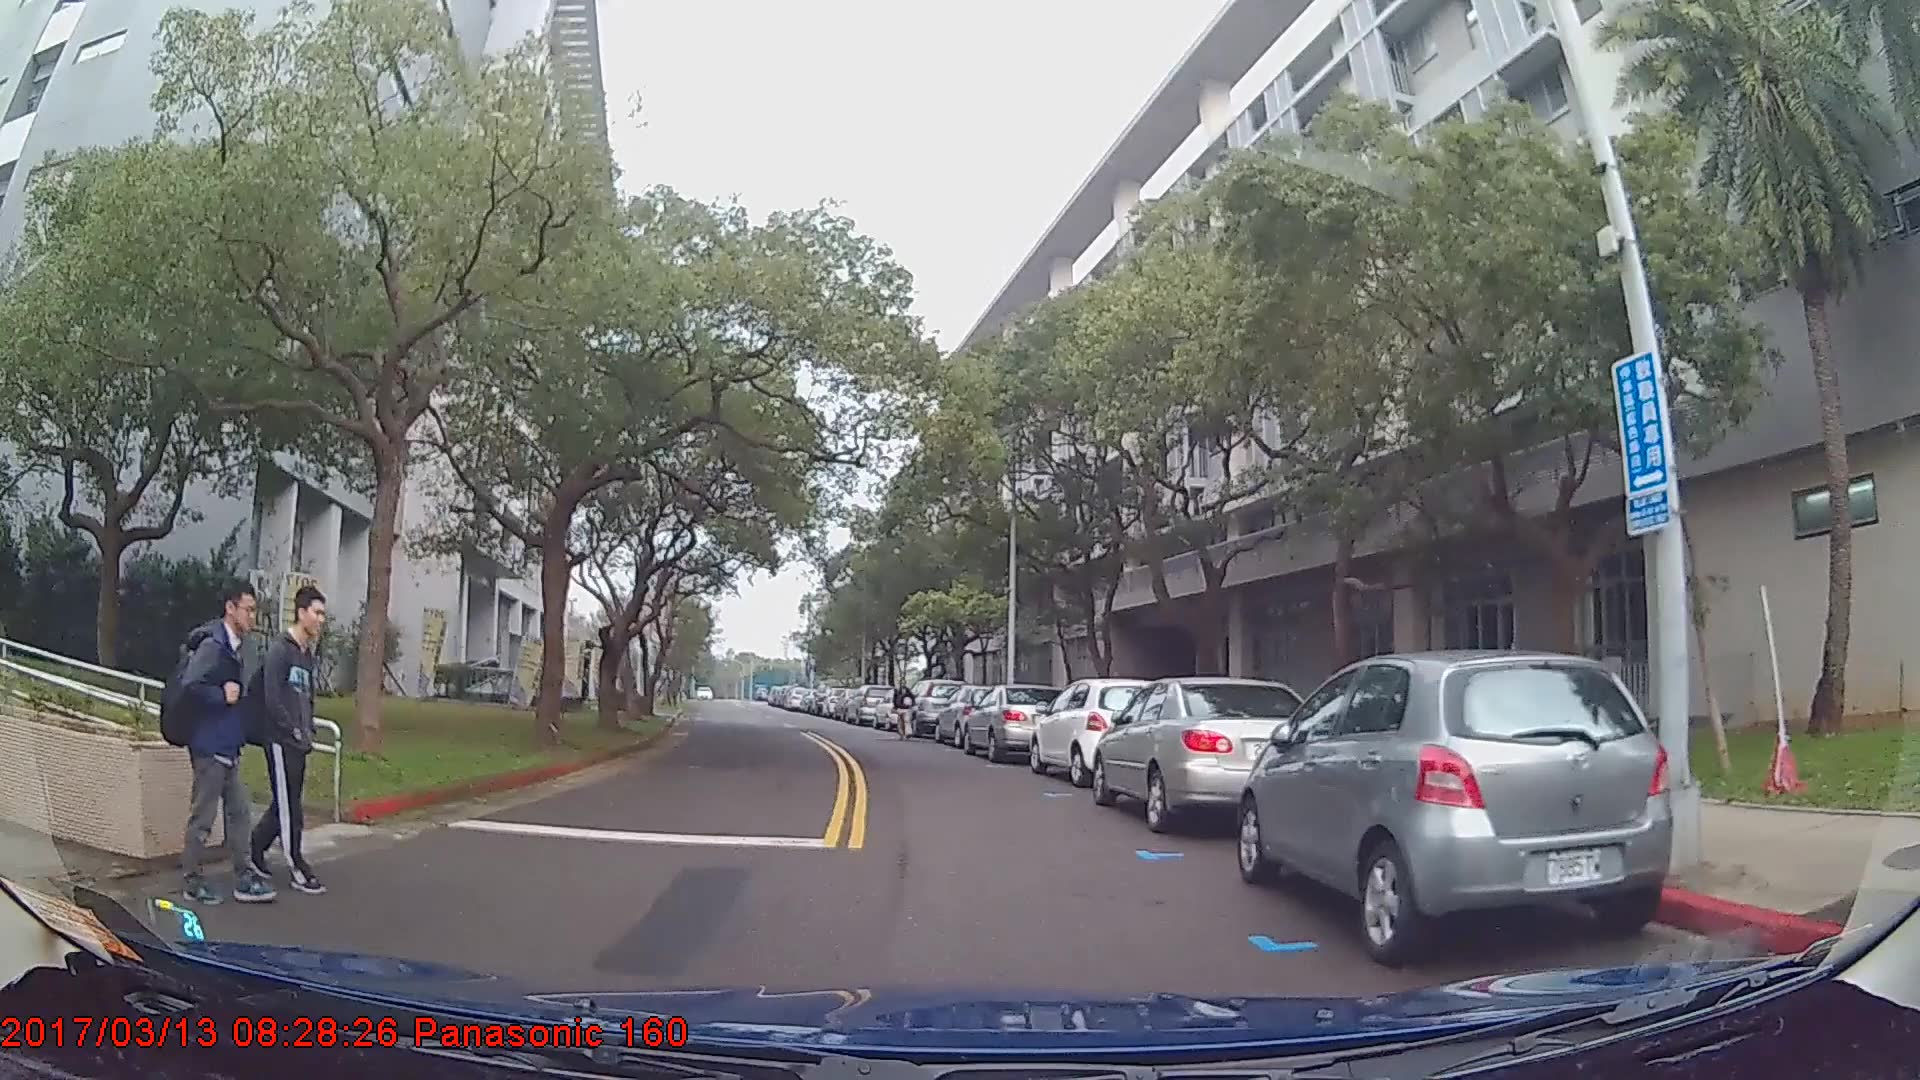pedestrian: (154, 577, 283, 910), (229, 582, 324, 902), (891, 675, 918, 743)
vehicle: (1233, 649, 1673, 964), (1092, 676, 1333, 832), (1028, 674, 1170, 787), (962, 683, 1063, 763), (931, 684, 1020, 750), (904, 676, 969, 739), (842, 683, 892, 726)
